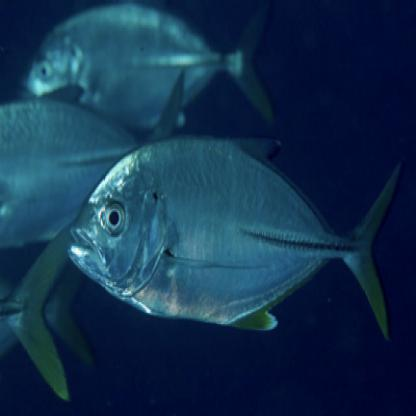jack: (69, 127, 402, 342)
